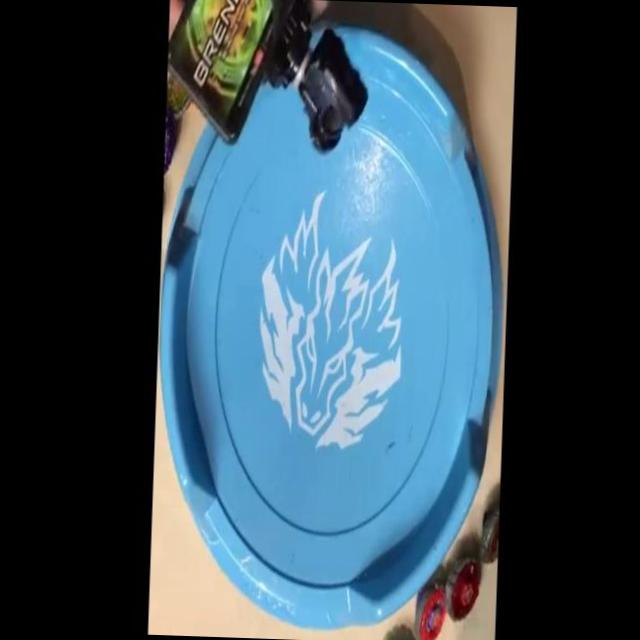Beyblade: (444, 557, 482, 622), (413, 582, 446, 640)
